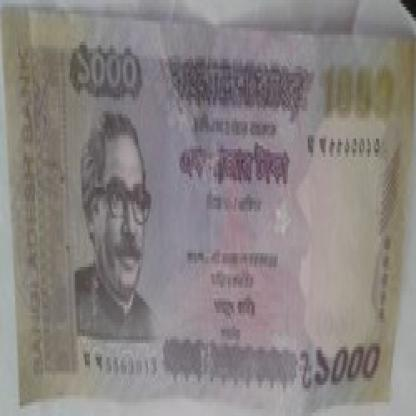One Thousand taka: (66, 42, 146, 104), (298, 340, 383, 398)
